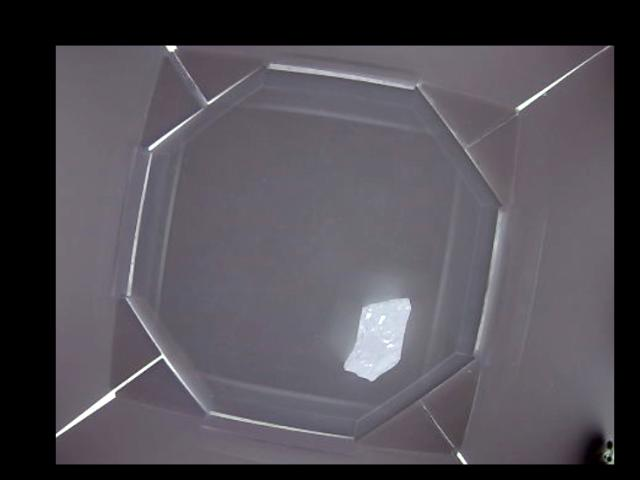China: (341, 297, 414, 379)
